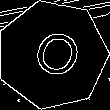O_SW: (22, 23, 83, 87)
